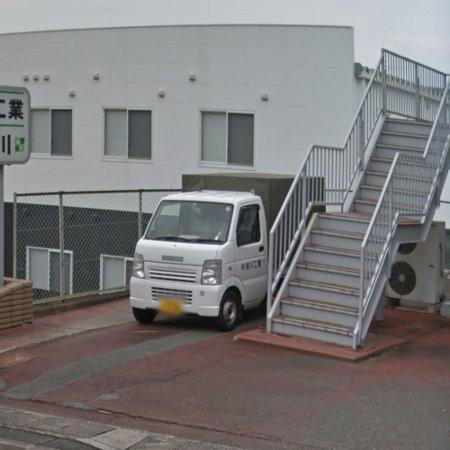stairs: (271, 77, 450, 348)
